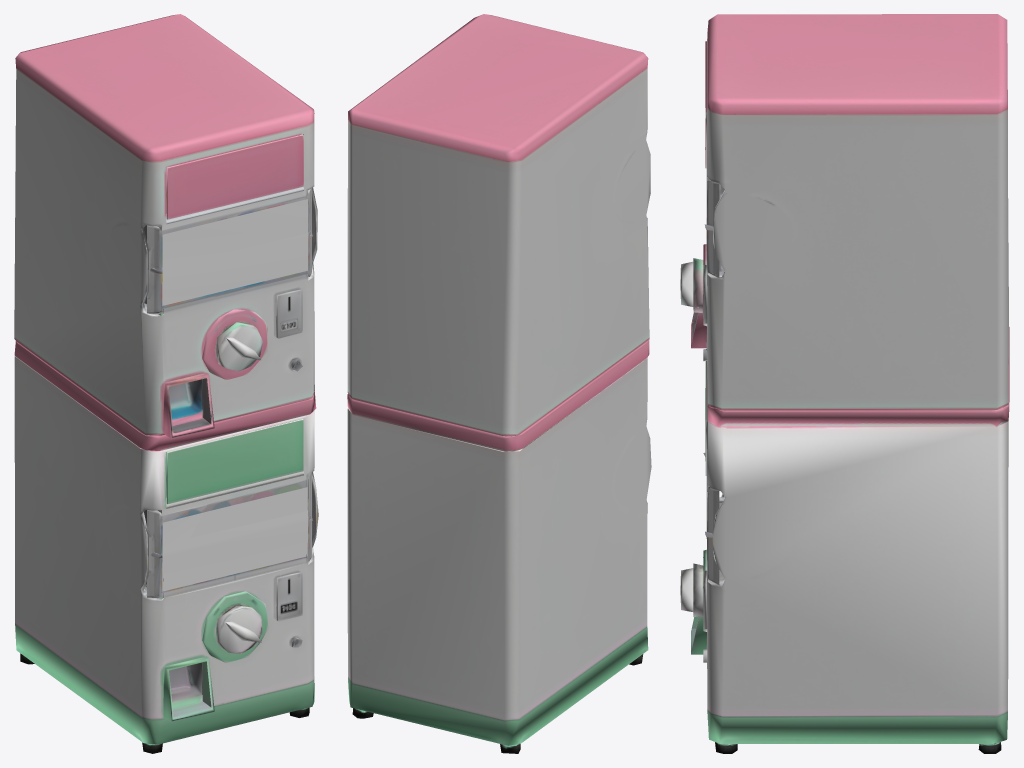
Rendered from Gacha_Capsule_Machine.fbx.
3 views of the same model, side by side, from view 1: azimuth 30°, elevation 25°; view 2: azimuth 150°, elevation 25°; view 3: azimuth 270°, elevation 25° (orthographic). The views are drawn at different scales.
Visible parts, largest first — view 1: Gacha_Capsule_Machine; view 2: Gacha_Capsule_Machine; view 3: Gacha_Capsule_Machine.
Part boxes in pixels (x1,y1,x2,y2): Gacha_Capsule_Machine: (14,14,318,753); Gacha_Capsule_Machine: (347,14,651,753); Gacha_Capsule_Machine: (680,14,1009,753).
Bounding box in the file's own units: 30.22 × 99.95 × 45.56.
4 materials, 1 textured.
